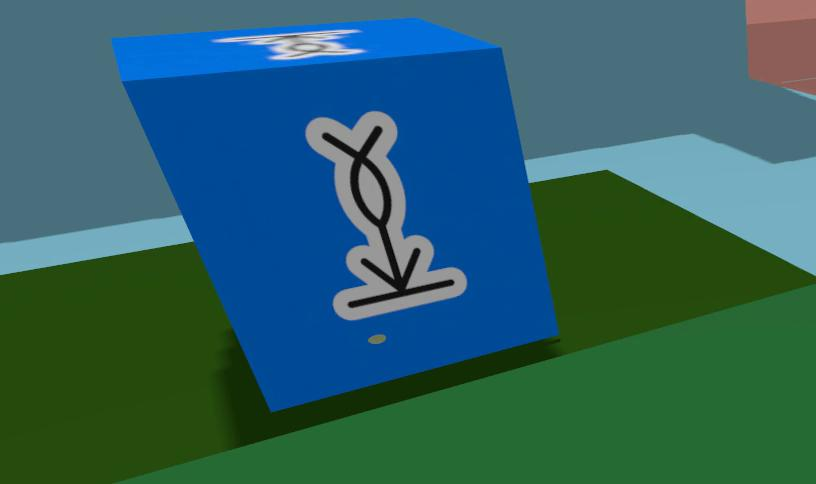KFS_REAL: (111, 18, 554, 409), (306, 111, 465, 318), (212, 29, 365, 60)
